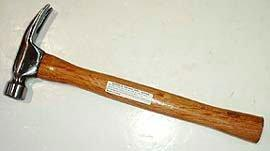hammer: (2, 1, 264, 144)
